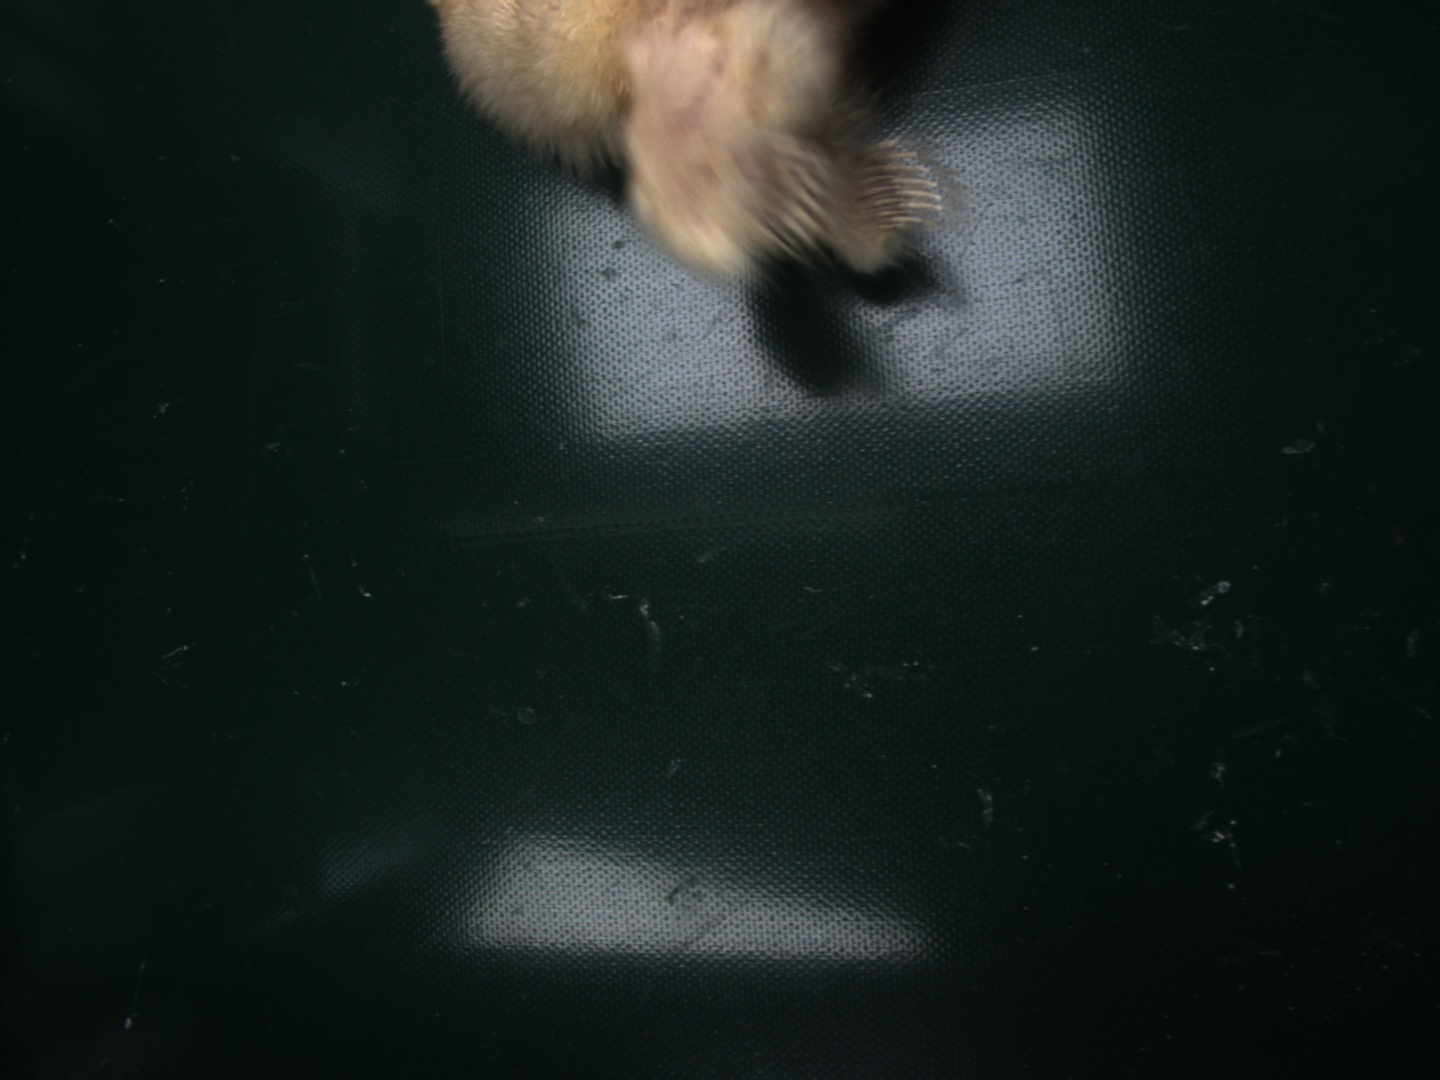female: (848, 141, 945, 225)
